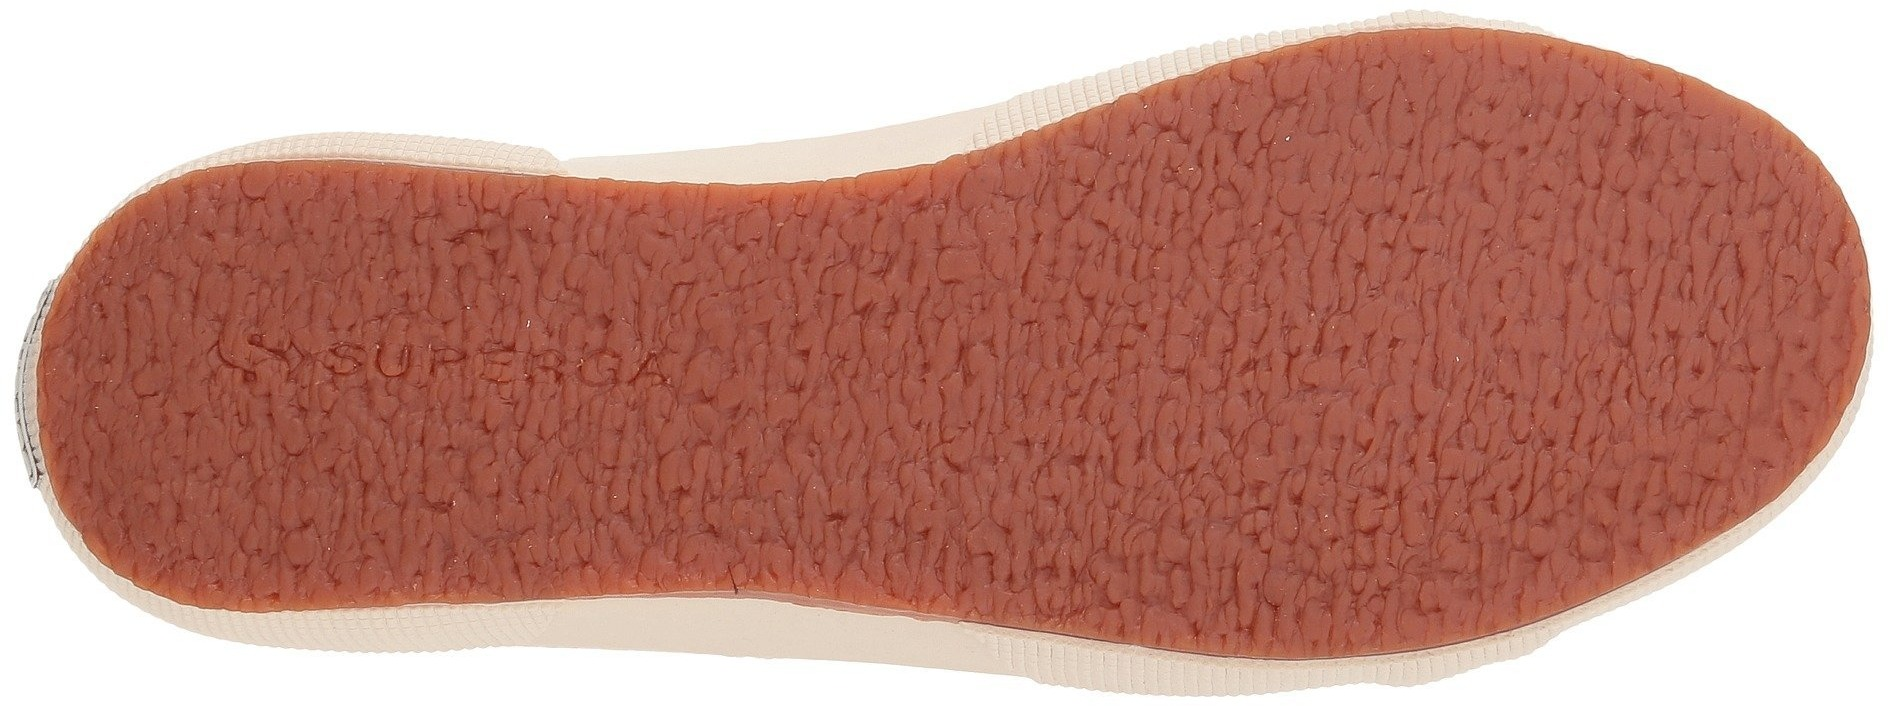other: (1133, 105, 1604, 559), (745, 214, 1129, 586)
text: (203, 273, 680, 557)
